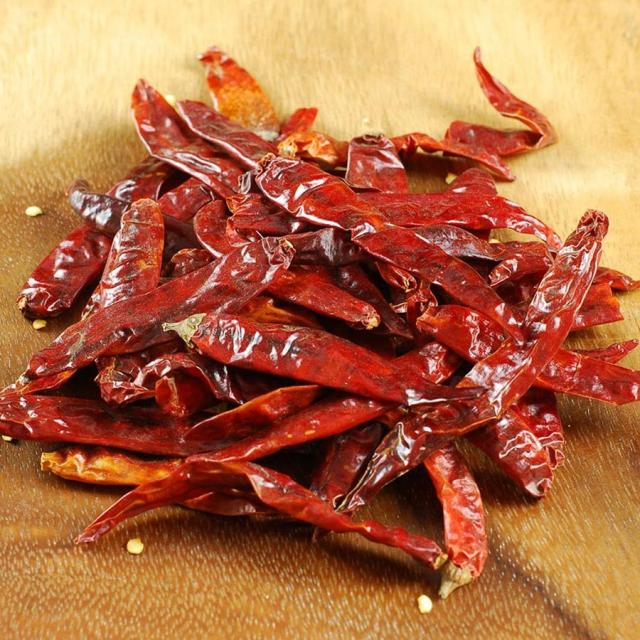Chilli Pepper: (21, 34, 626, 597), (74, 200, 640, 387), (38, 203, 428, 471), (188, 144, 558, 368), (83, 69, 466, 258), (93, 238, 439, 436), (230, 379, 524, 590)
